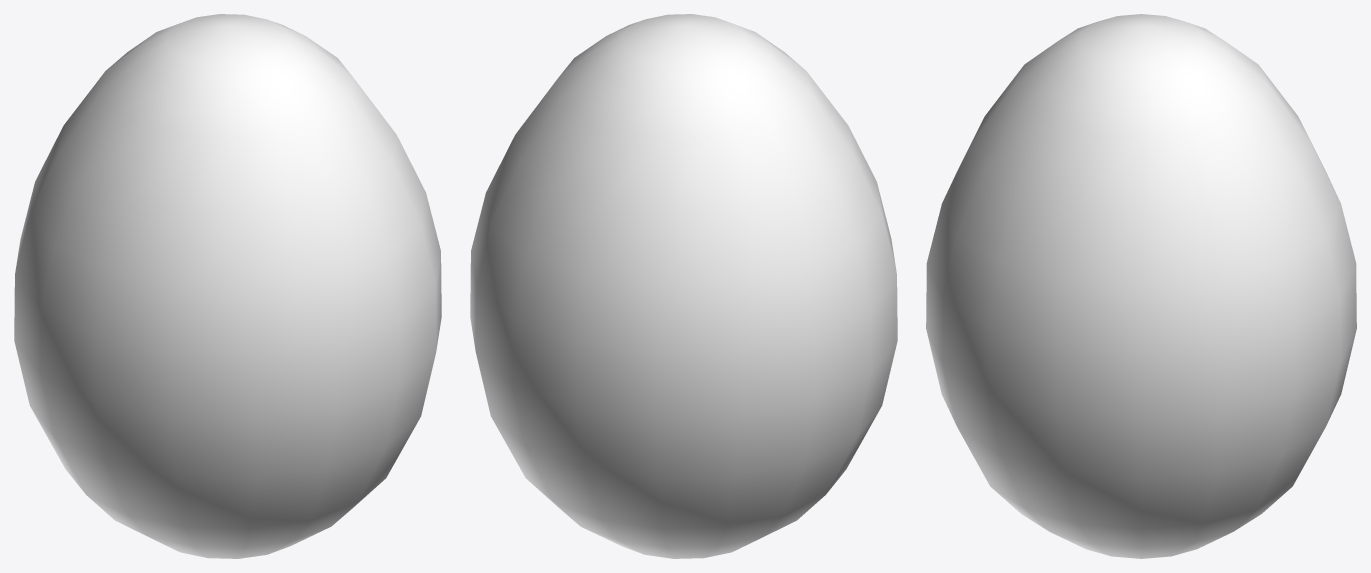
Rendered from ASFTR_RawEgg.fbx.
The picture shows the model from 3 angles, left to right: view 1: azimuth 30°, elevation 25°; view 2: azimuth 150°, elevation 25°; view 3: azimuth 270°, elevation 25°; orthographic projection.
Visible parts, largest first — view 1: ASFTR_RawEgg; view 2: ASFTR_RawEgg; view 3: ASFTR_RawEgg.
Part boxes in pixels (x1,y1,x2,y2): ASFTR_RawEgg: (14,14,441,558); ASFTR_RawEgg: (470,14,897,558); ASFTR_RawEgg: (926,14,1356,558).
Bounding box in the file's own units: 46.67 × 61.89 × 46.67.
